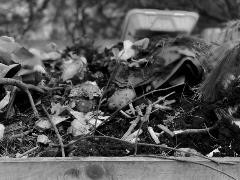organic: (1, 74, 60, 114), (208, 40, 236, 86), (109, 86, 137, 116), (88, 142, 123, 154)
